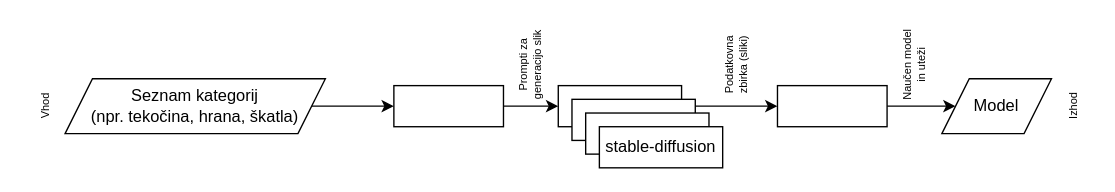
The diagram is 1115 pixels wide and 192 high, and some of its shapes have lost their labels. Each missing label, with the box of its shape:
LLM: (393, 84, 503, 127)
MobileNetV3: (776, 84, 887, 127)
